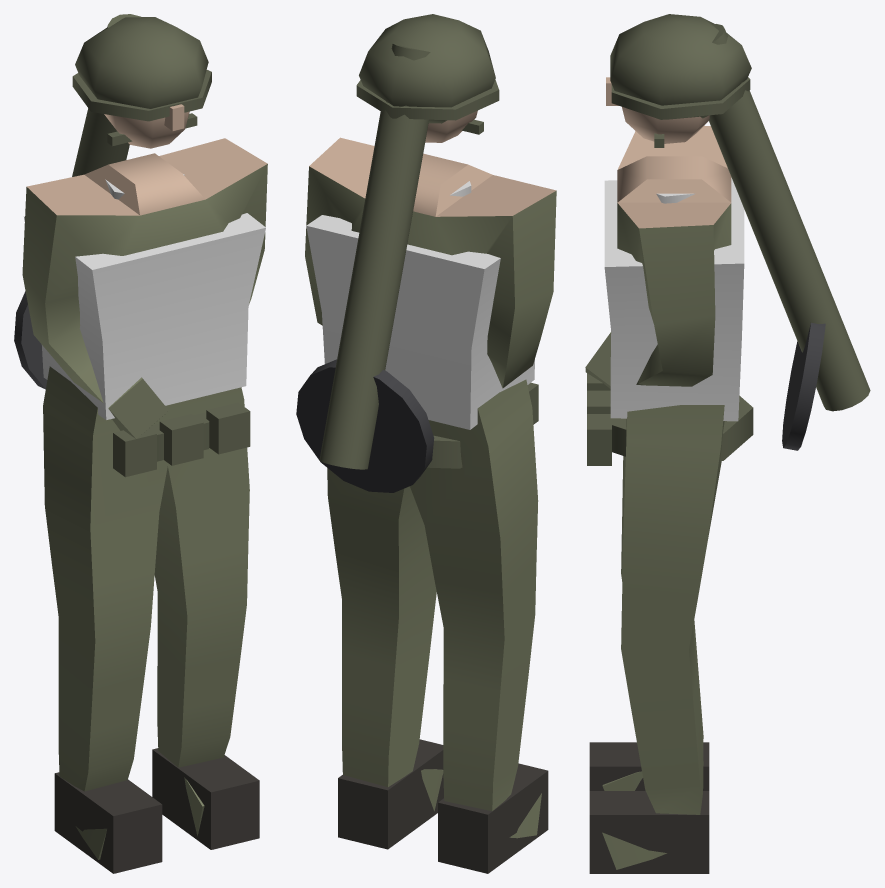
File: mortar_lod1.glb
3 renders of one model, left to right at view 1: azimuth 30°, elevation 25°; view 2: azimuth 150°, elevation 25°; view 3: azimuth 270°, elevation 25°, orthographic. The views are drawn at different scales.
Parts seen in each view (by area): view 1: body; view 2: body; view 3: body.
Part boxes in pixels (box(x1,y1,x2,y2)): body: box(14, 14, 267, 873); body: box(296, 14, 556, 873); body: box(585, 14, 870, 873).
Size of the model in its own units: 0.518 by 1.8 by 0.5709.
